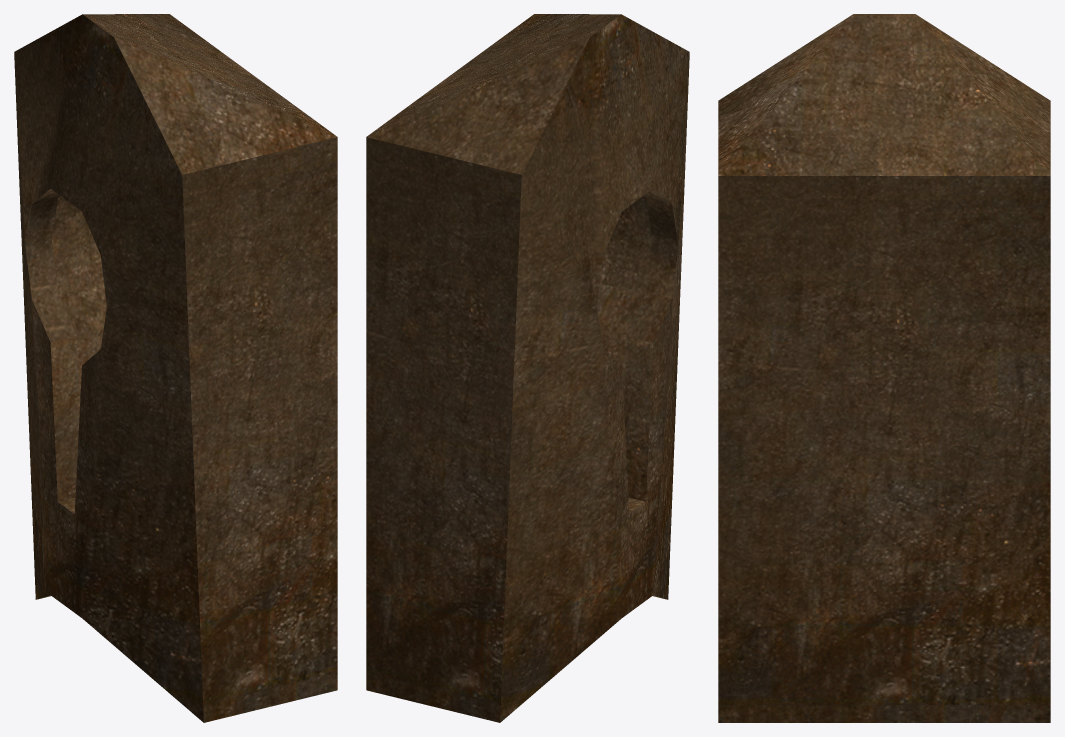
File: zamok.FBX
3 renders of one model, left to right at view 1: azimuth 30°, elevation 25°; view 2: azimuth 150°, elevation 25°; view 3: azimuth 270°, elevation 25°, orthographic.
Parts seen in each view (by area): view 1: zamok; view 2: zamok; view 3: zamok.
Boxes of the visible parts, left/top/right/bottom form: zamok: left=14, top=14, right=337, bottom=722; zamok: left=366, top=14, right=689, bottom=722; zamok: left=718, top=14, right=1050, bottom=722.
Size of the model in its own units: 7.16 by 23.39 by 11.12.
